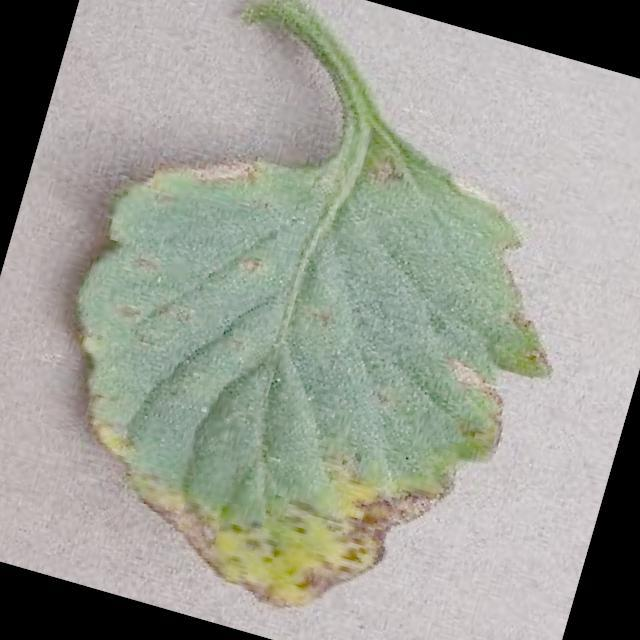Tomato bacterial spot leaf: (1, 57, 609, 640)
